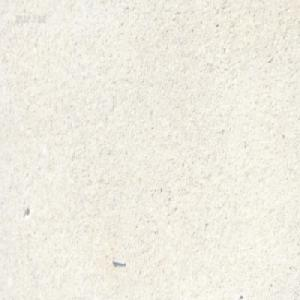Nail: (111, 256, 126, 266)
